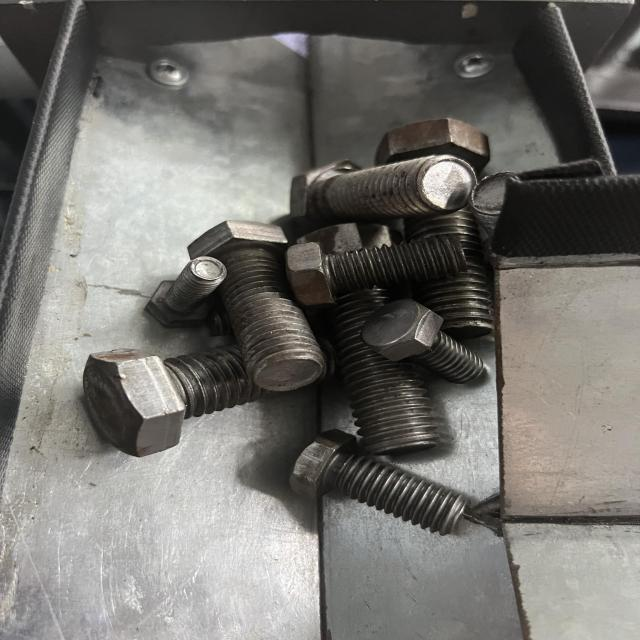bolt: (287, 429, 468, 536), (284, 241, 466, 304)
